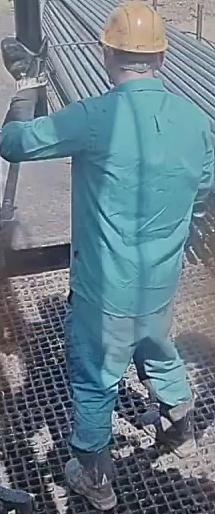gloves: (0, 32, 52, 92)
helmet: (99, 0, 168, 54)
vest: (67, 78, 213, 317)
